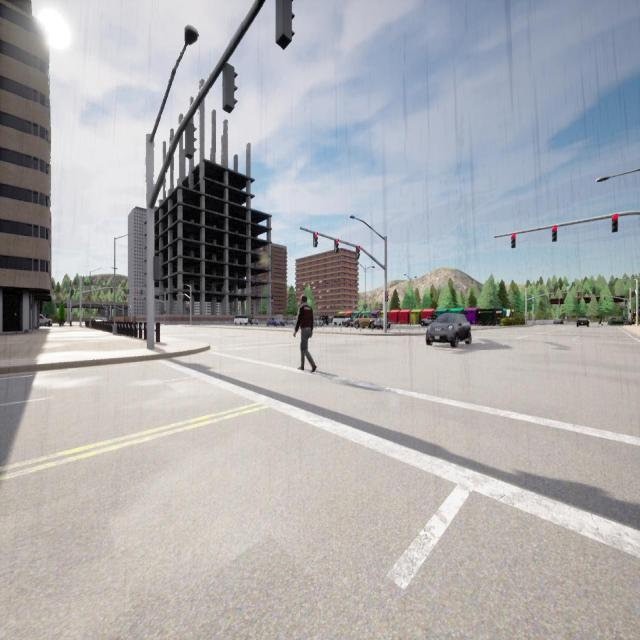Pedestrian: (293, 295, 316, 372)
Traffic_Signs: (565, 317, 567, 319)
Vehicle: (426, 313, 471, 347), (355, 313, 374, 328), (332, 316, 350, 326), (375, 318, 390, 329), (39, 314, 52, 326), (421, 316, 436, 326), (234, 315, 248, 325), (577, 318, 589, 327), (267, 320, 284, 326), (612, 317, 624, 325), (320, 315, 328, 325), (315, 318, 322, 327), (251, 317, 258, 325), (346, 320, 353, 328), (554, 318, 562, 325), (287, 318, 293, 326)
traffic_light: (276, 0, 294, 50), (223, 63, 238, 113), (185, 124, 197, 159), (153, 256, 160, 279), (612, 215, 618, 232), (552, 226, 557, 241), (314, 233, 318, 247), (512, 234, 516, 248), (334, 239, 338, 252), (356, 246, 360, 259), (386, 291, 388, 302), (134, 296, 136, 301), (124, 296, 126, 300), (164, 310, 166, 314), (578, 296, 580, 299), (590, 296, 592, 299), (604, 297, 606, 300), (630, 309, 631, 313)
